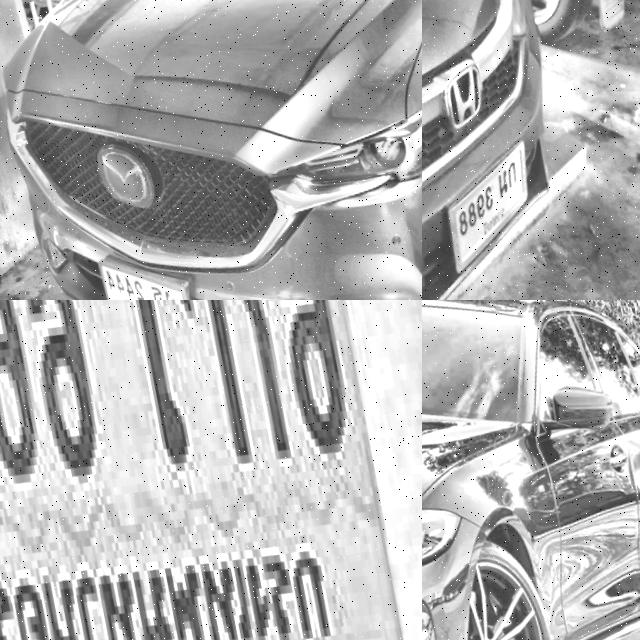license-plate: (0, 300, 422, 640), (433, 124, 553, 274), (94, 238, 201, 300)
